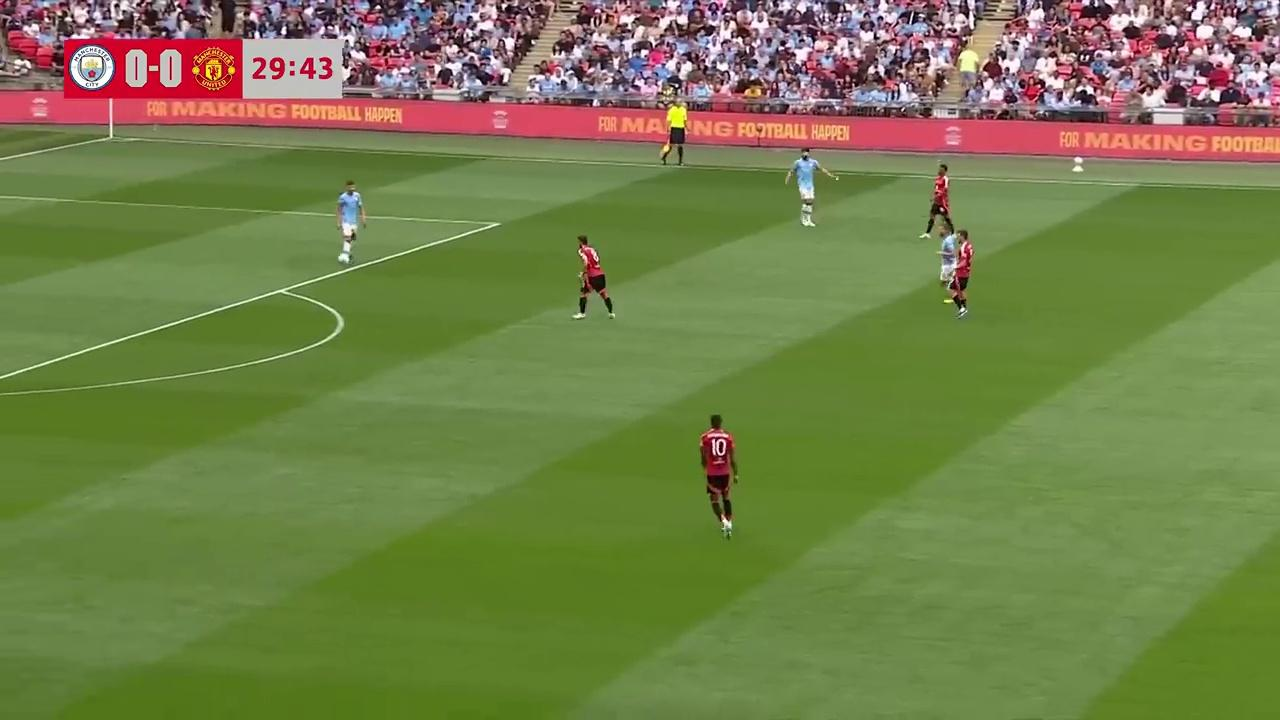ball: (339, 251, 350, 264)
player: (699, 413, 738, 540), (571, 236, 616, 320), (786, 150, 833, 227), (942, 228, 972, 318), (937, 225, 965, 316), (921, 164, 952, 239), (336, 182, 363, 267)
referee: (659, 97, 694, 168)
